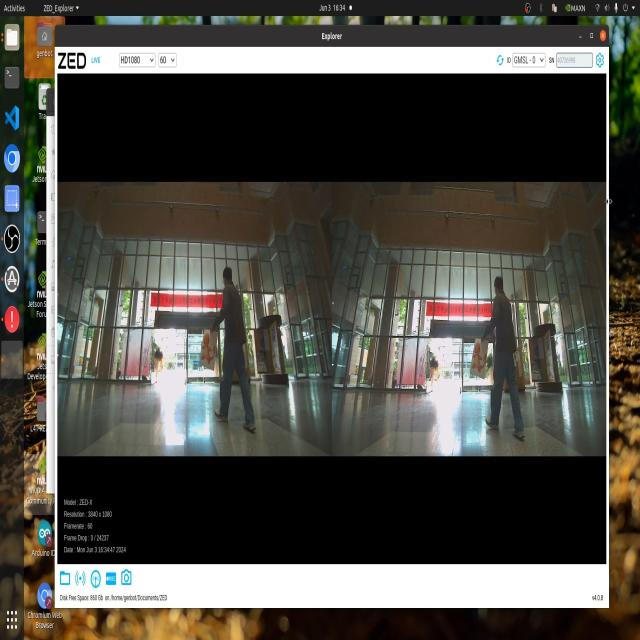red: (471, 336, 496, 377), (198, 327, 211, 370)
